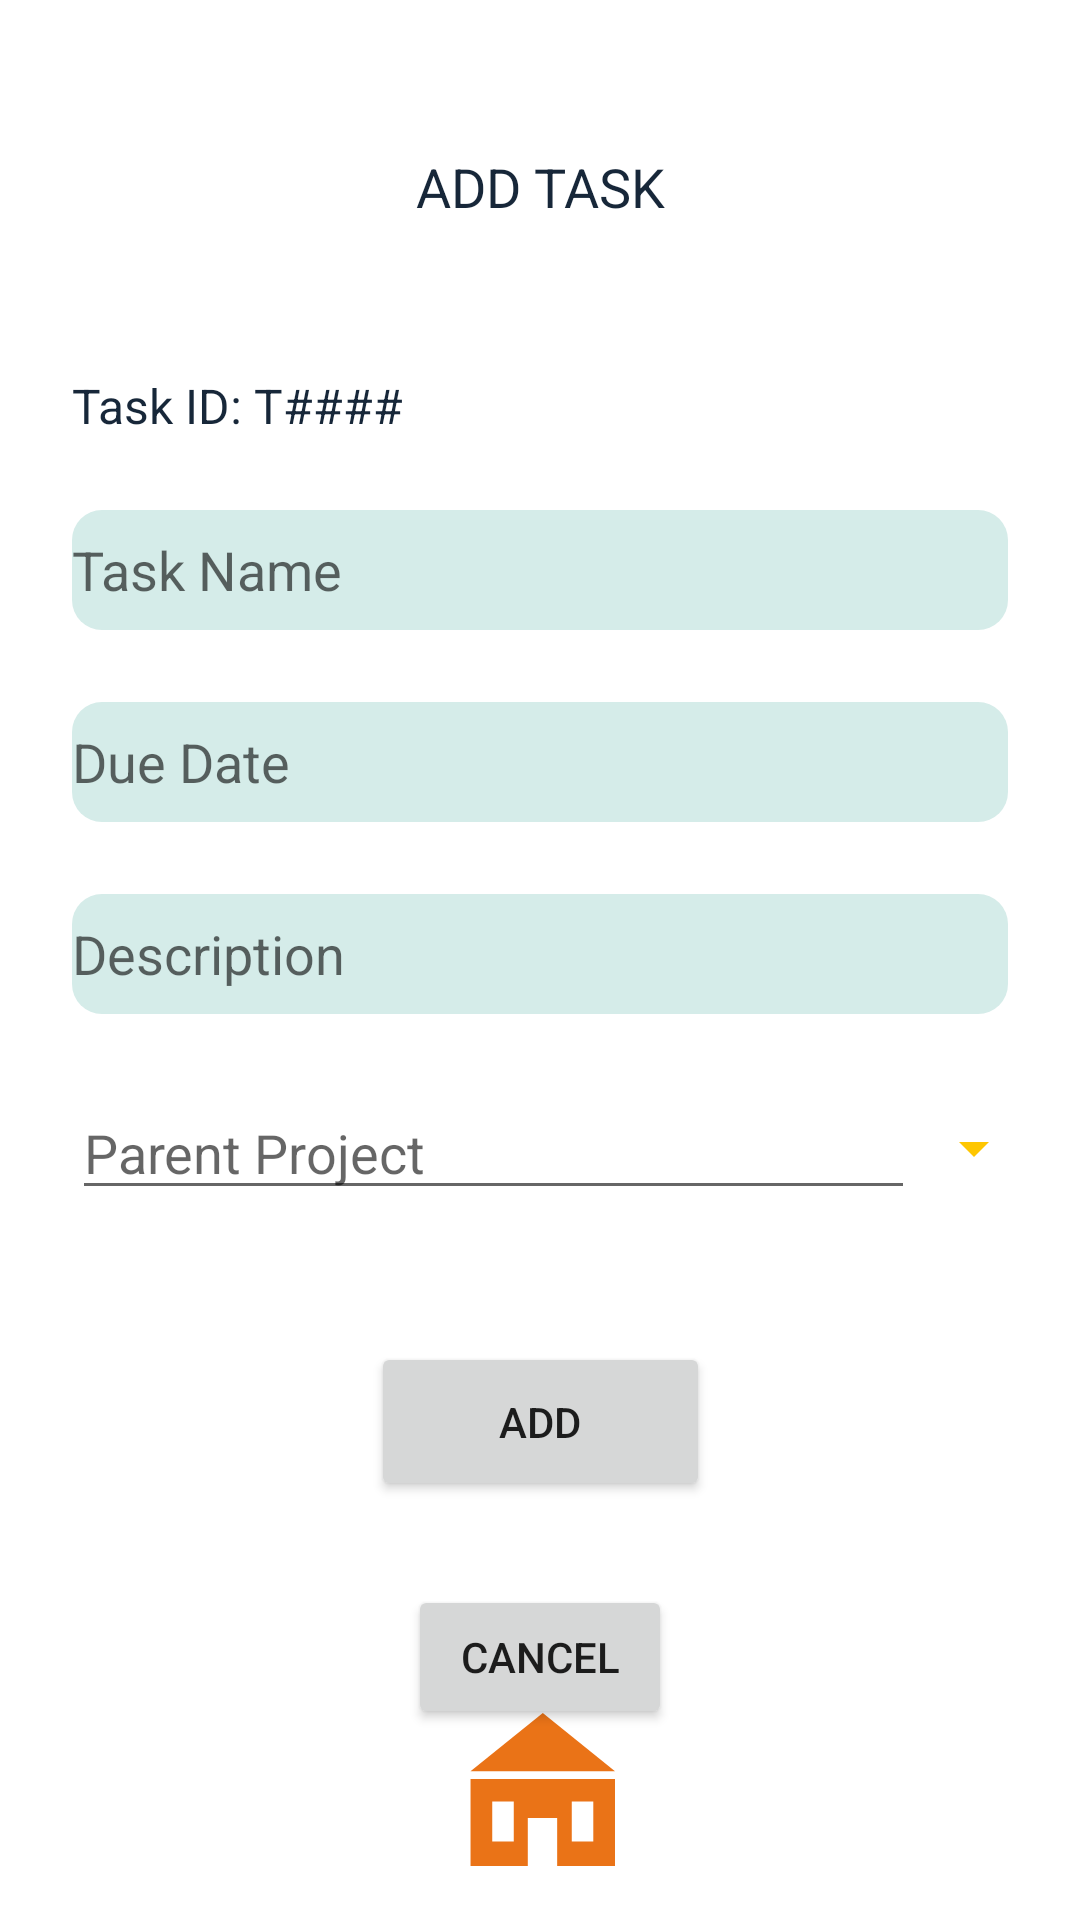

Locate icon controls on the screen. Image size 1080 x 1920, boxes as (x1, y1, x2, y2).
drop down: (959, 1142, 989, 1157)
